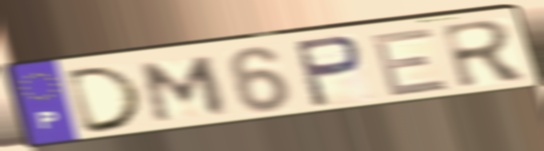6: (226, 43, 296, 118)
D: (63, 62, 149, 137)
E: (367, 25, 454, 100)
M: (139, 54, 231, 126)
P: (290, 33, 366, 110)
R: (437, 17, 533, 91)
